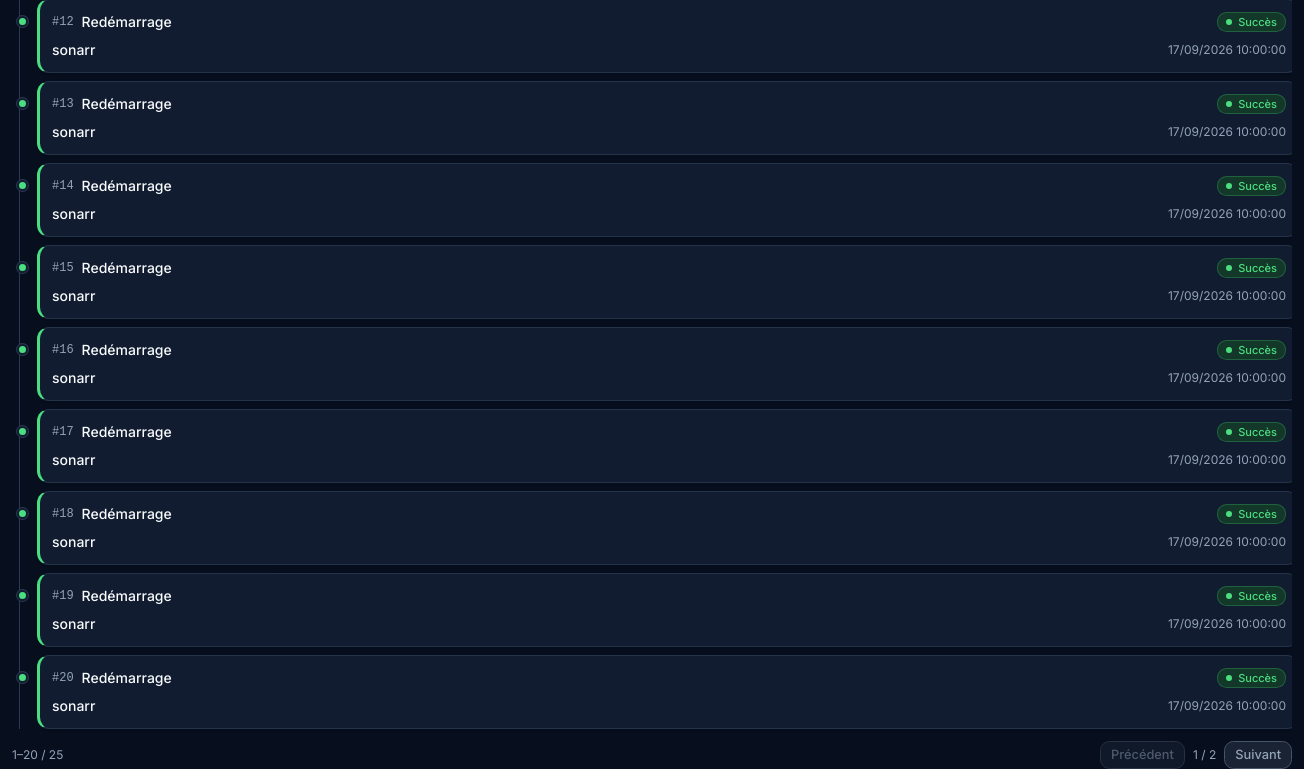
JobsView › paginates the job list
The width and height of the screenshot is (1304, 769).
(page scrolled)
Expected: the text "#25" is not shown
Expected: the text "1–20 / 25" is shown, [12,747,63,763]
Click the button "Suivant" at (1258, 755), box [1224,741,1292,768]
(page scrolled)
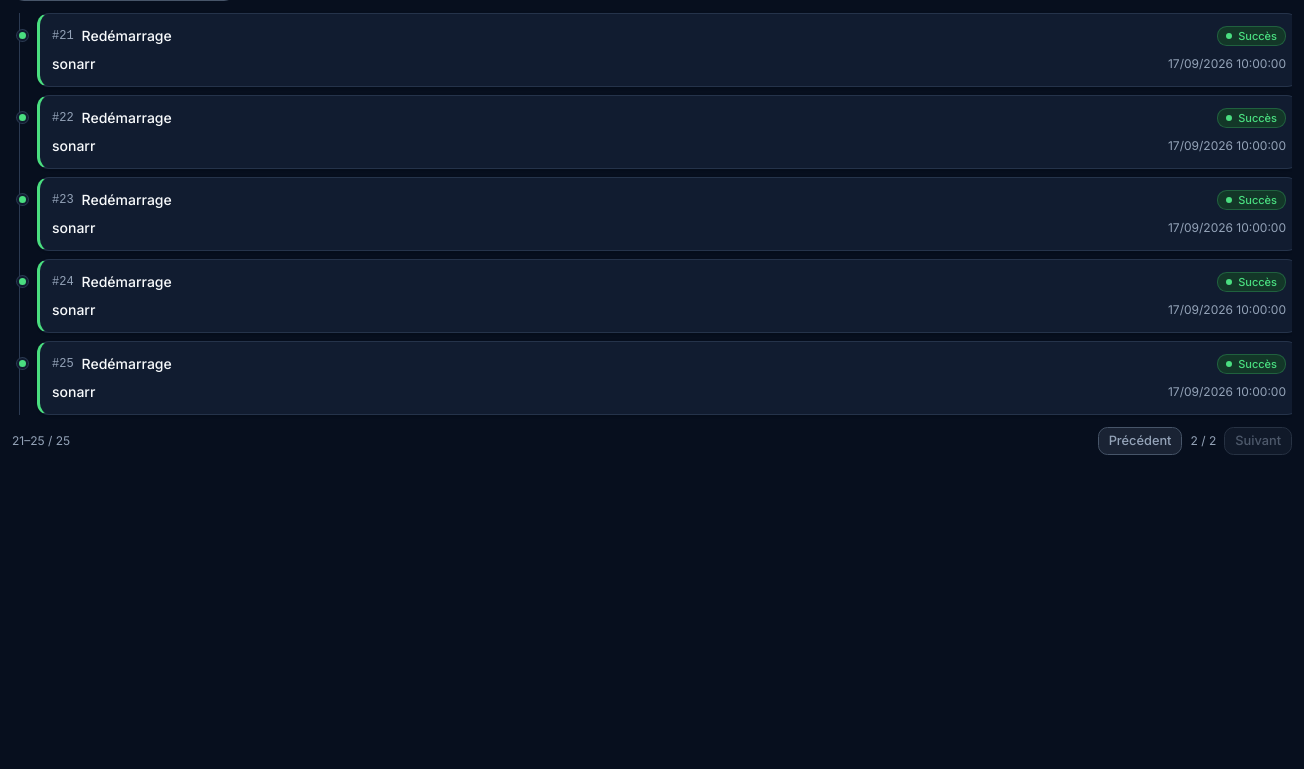
Result: the text "#25" is shown at [52,356,74,372]
Result: the text "2 / 2" is shown at [1190,433,1216,449]
